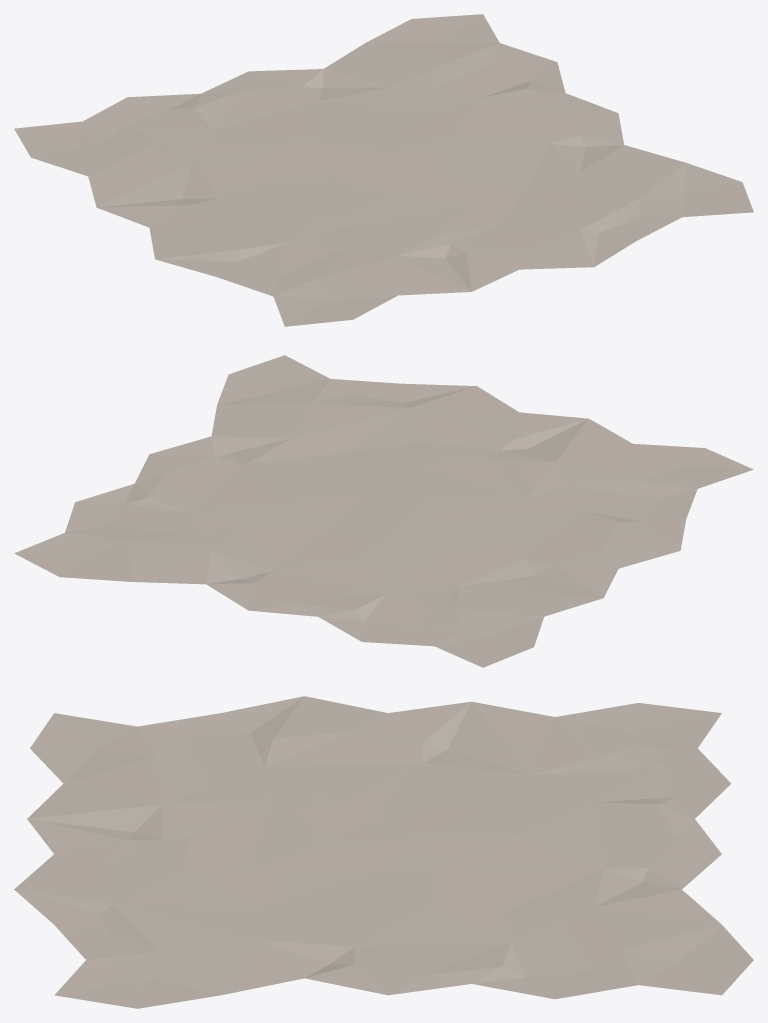
The model's file is BG_rock_LowWall_01_B.fbx.
The picture shows the model from 3 angles, top to bottom: view 1: azimuth 30°, elevation 25°; view 2: azimuth 150°, elevation 25°; view 3: azimuth 270°, elevation 25°; orthographic projection. The views are drawn at different scales.
Visible parts, largest first — view 1: BG_rock_LowWall_01_B; view 2: BG_rock_LowWall_01_B; view 3: BG_rock_LowWall_01_B.
Part boxes in pixels (x1,y1,x2,y2): BG_rock_LowWall_01_B: (14, 14, 753, 326); BG_rock_LowWall_01_B: (14, 355, 753, 667); BG_rock_LowWall_01_B: (14, 696, 753, 1008).
Bounding box in the file's own units: 44.32 × 0.3276 × 44.32.
